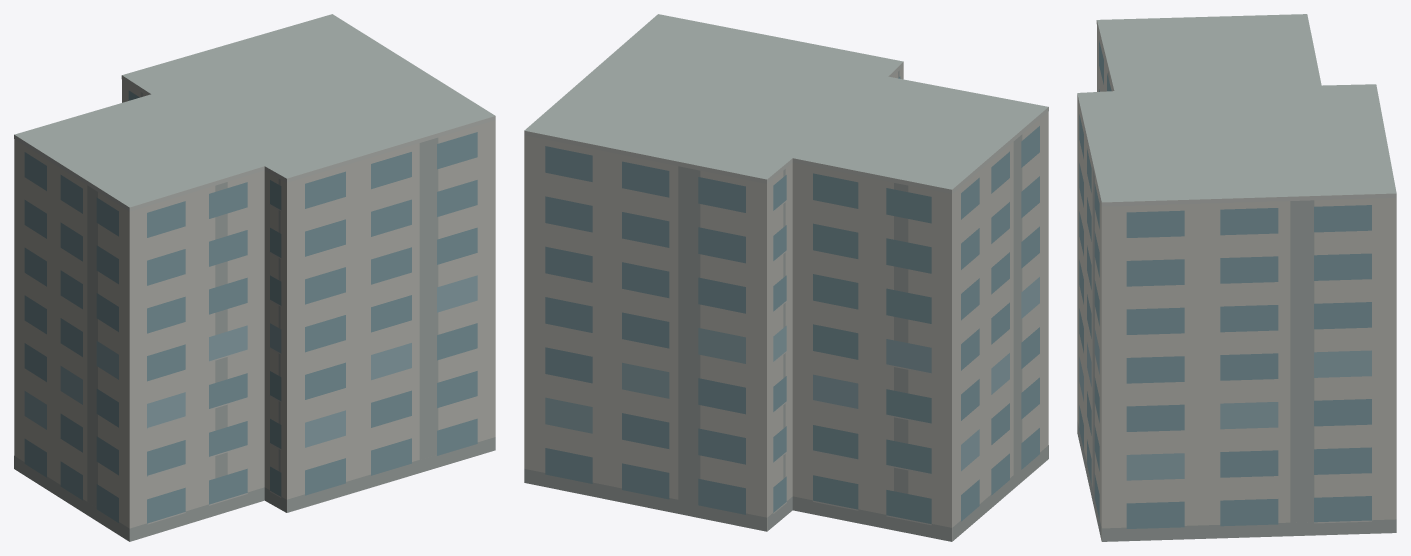
Rendered from survey-upis-33033187.glb.
3 views of the same model, side by side, from view 1: azimuth 30°, elevation 25°; view 2: azimuth 150°, elevation 25°; view 3: azimuth 270°, elevation 25° (orthographic). The views are drawn at different scales.
Parts seen in each view (by area): view 1: survey-upis-33033187.tmp; view 2: survey-upis-33033187.tmp; view 3: survey-upis-33033187.tmp.
Boxes of the visible parts, x1=… form: survey-upis-33033187.tmp: x1=14, y1=14, x2=495, y2=541; survey-upis-33033187.tmp: x1=524, y1=14, x2=1048, y2=541; survey-upis-33033187.tmp: x1=1077, y1=14, x2=1396, y2=541.
Size of the model in its own units: 22.51 by 18.9 by 16.13.
